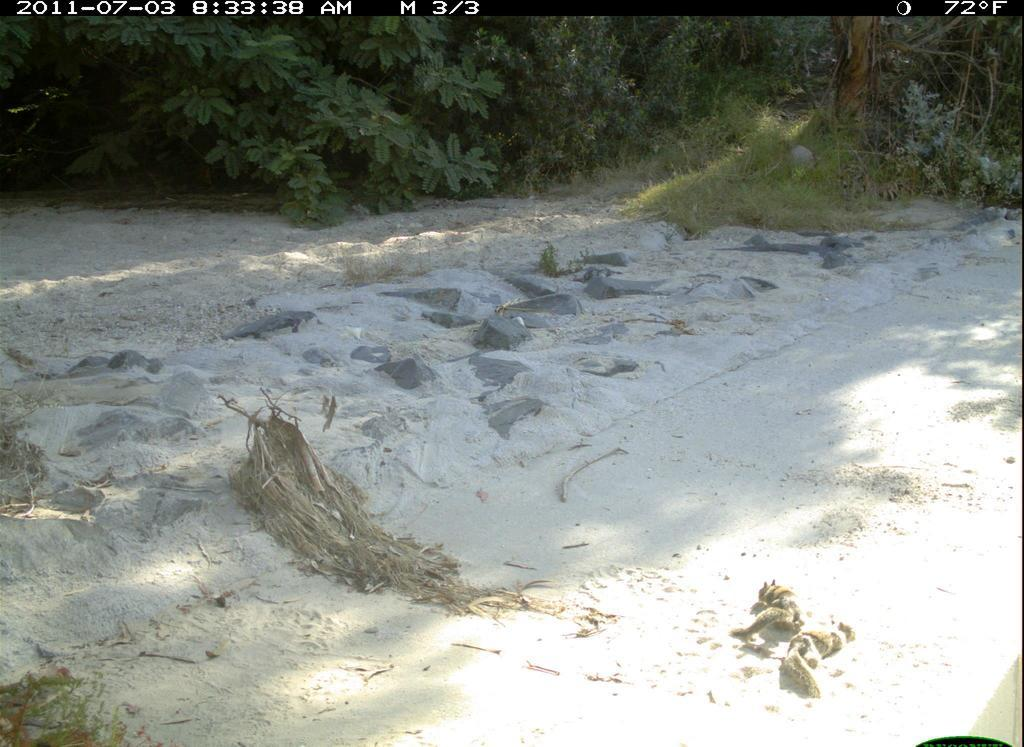squirrel: (775, 609, 859, 708), (728, 570, 807, 648)
